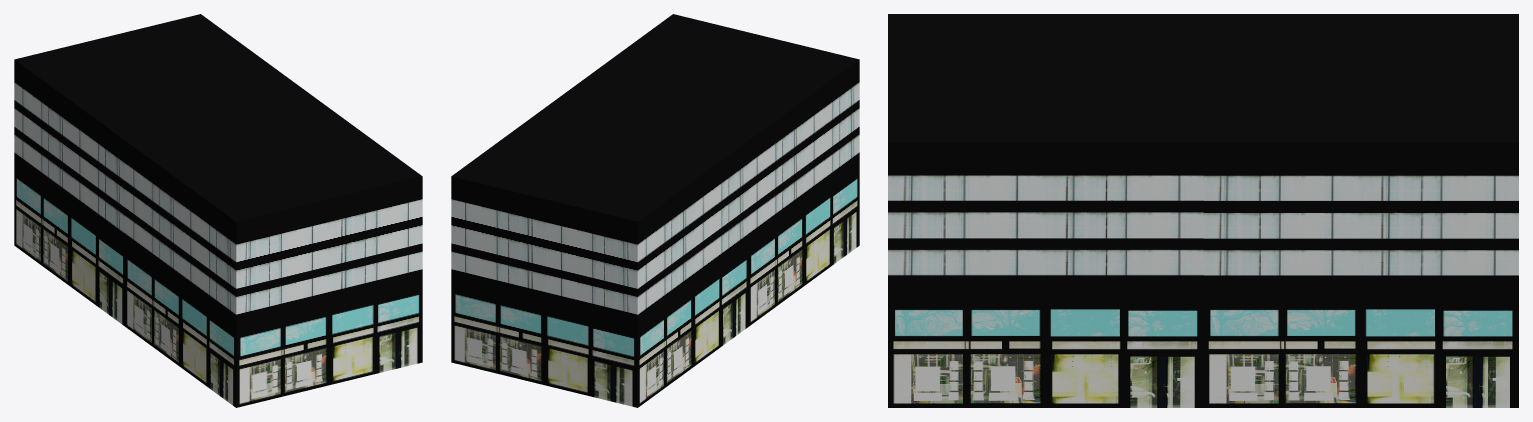
File: building2.FBX
3 renders of one model, left to right at view 1: azimuth 30°, elevation 25°; view 2: azimuth 150°, elevation 25°; view 3: azimuth 270°, elevation 25°, orthographic. The views are drawn at different scales.
Parts seen in each view (by area): view 1: Box001; view 2: Box001; view 3: Box001.
Part boxes in pixels (<box>): Box001: <box>14,14,422,407</box>; Box001: <box>451,14,859,407</box>; Box001: <box>888,14,1518,407</box>.
Bounding box in the file's own units: 55.93 × 53.37 × 115.
